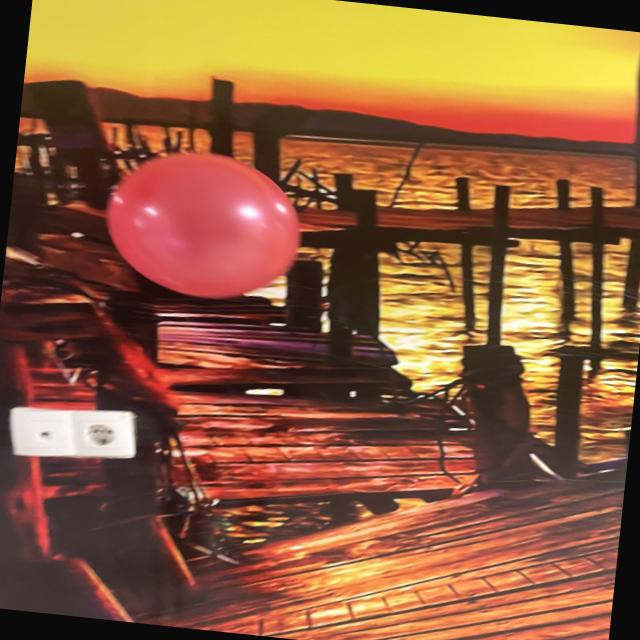balloon: (106, 153, 300, 298)
